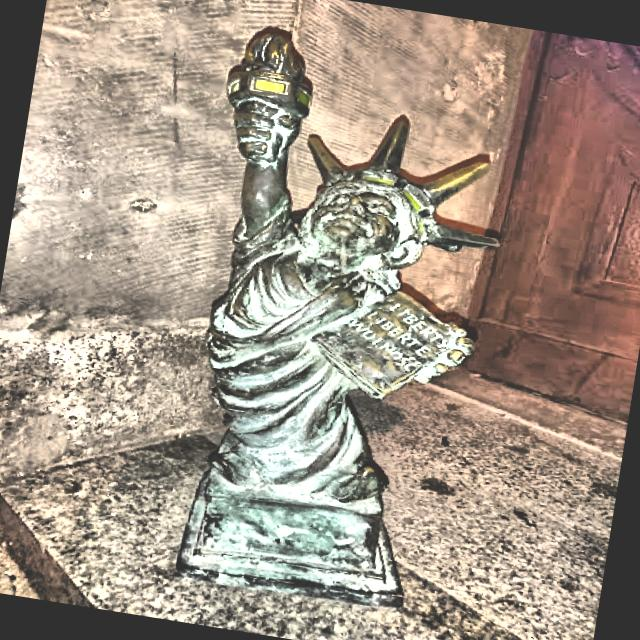LadyWolnosc: (178, 29, 497, 605)
